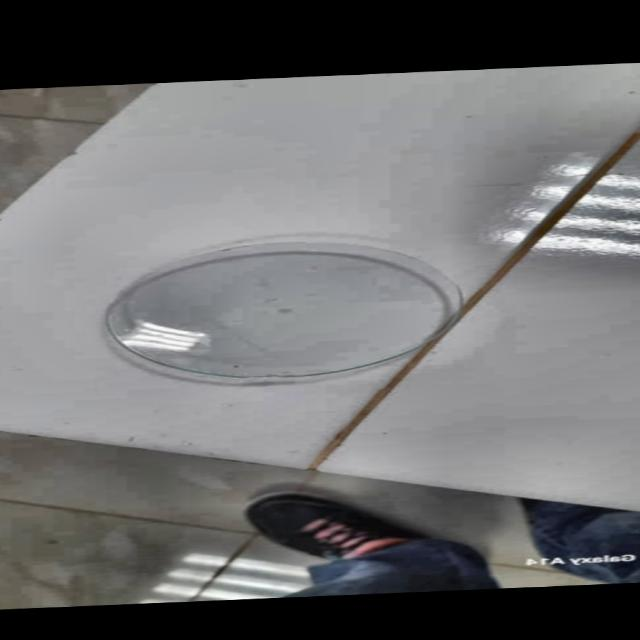Pedrish: (95, 243, 469, 389)
